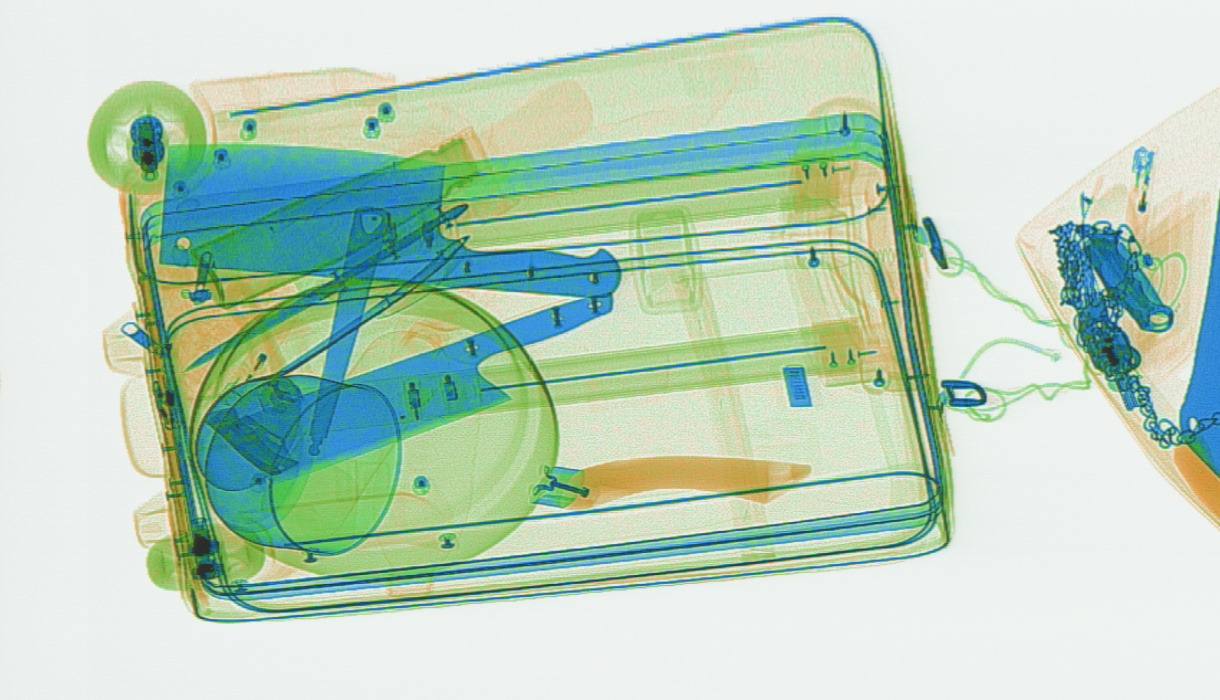knife: (165, 135, 619, 311), (221, 291, 617, 485), (185, 201, 475, 379), (1082, 220, 1175, 334)
lighter: (206, 322, 288, 418), (1122, 145, 1159, 264)
